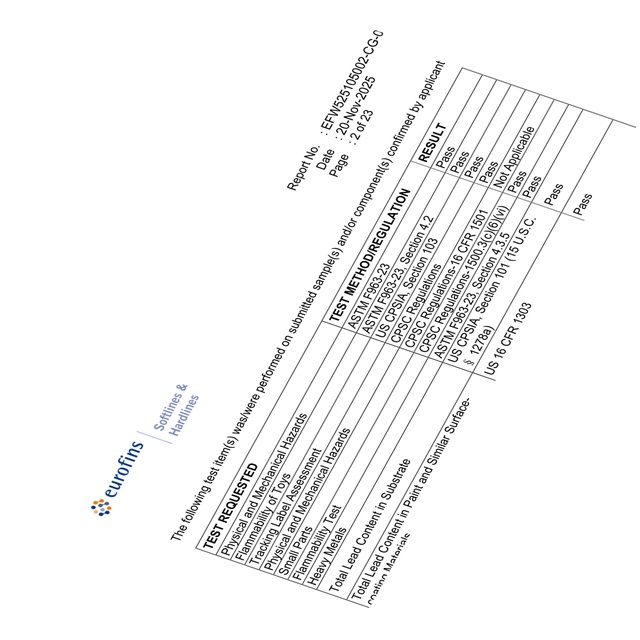eurofins: (89, 437, 143, 522)
